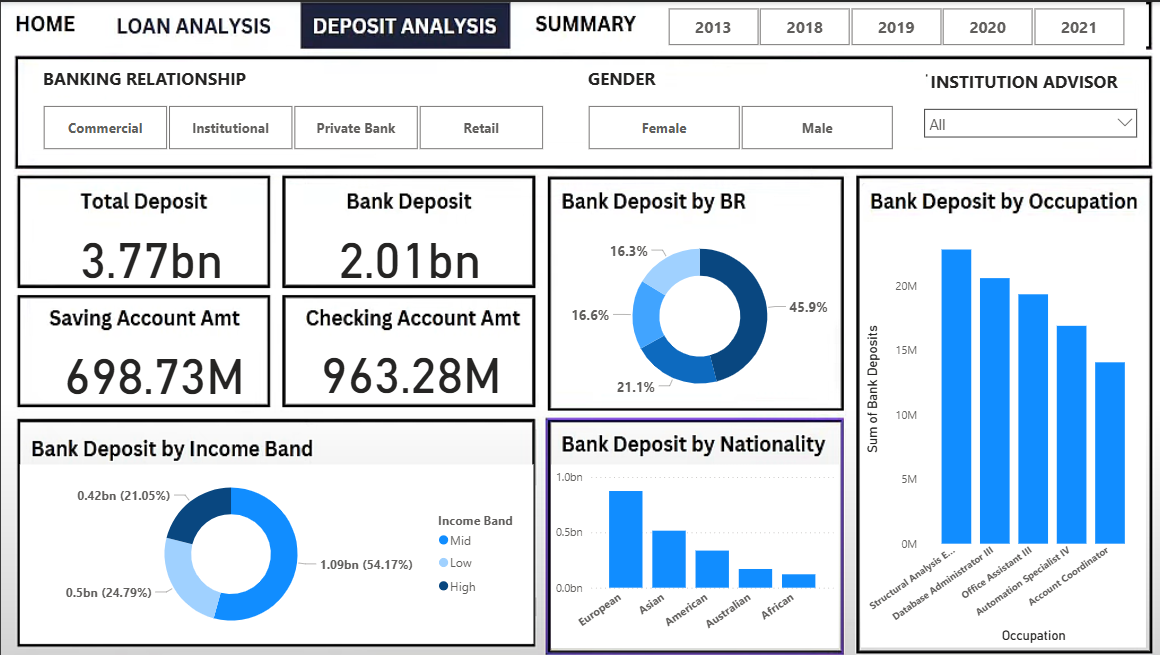

The dashboard page shown, as its layout file describes it:
{"tool":"powerbi","page":{"name":"Deposit Analysis","canvas":[1280,720],"ordinal":2},"visuals":[{"type":"actionButton","box":[0,0,101.4,54.3],"z":0},{"type":"slicer","fields":{"Values":["banking_case customer.Year of Joining"]},"box":[707.1,0,550,54.3],"z":1000},{"type":"card","fields":{"Values":["banking_case customer.Total Deposits"]},"box":[75.7,241.4,180,71.4],"z":2000},{"type":"card","fields":{"Values":["Sum(banking_case customer.Bank Deposits)"]},"box":[362.9,241.4,172.9,71.4],"z":3000},{"type":"card","fields":{"Values":["Sum(banking_case customer.Saving Accounts)"]},"box":[61.4,367.1,212.9,72.9],"z":4000},{"type":"card","fields":{"Values":["Sum(banking_case customer.Checking Accounts)"]},"box":[344.3,360,211.4,88.6],"z":5000},{"type":"donutChart","fields":{"Category":["banking_case customer.Income Band"],"Y":["Sum(banking_case customer.Bank Deposits)"]},"box":[20,507.1,564.3,197.1],"z":6000},{"type":"donutChart","fields":{"Category":["banking_case customer.BRId"],"Y":["Sum(banking_case customer.Bank Deposits)"]},"box":[604.3,241.4,327.1,207.1],"z":7000},{"type":"clusteredColumnChart","fields":{"Category":["banking_case customer.Nationality"],"Y":["Sum(banking_case customer.Bank Deposits)"]},"box":[604.3,507.1,315.7,201.4],"z":8000},{"type":"clusteredColumnChart","fields":{"Category":["banking_case customer.Occupation"],"Y":["Sum(banking_case customer.Bank Deposits)"]},"box":[944.3,241.4,312.9,467.1],"z":9000},{"type":"slicer","fields":{"Values":["banking_case customer.BRId"]},"box":[20,107.1,598.6,61.4],"z":10000},{"type":"slicer","fields":{"Values":["banking_case customer.GenderId"]},"box":[618.6,107.1,384.3,61.4],"z":11000},{"type":"slicer","fields":{"Values":["banking_case customer.IAId"]},"box":[1002.9,107.1,254.3,64.3],"z":12000},{"type":"textbox","box":[41.4,65.7,292.9,37.1],"z":13000},{"type":"textbox","box":[640,65.7,114.3,37.1],"z":14000},{"type":"textbox","box":[1015.7,70,224.3,37.1],"z":15000},{"type":"textbox","box":[478.6,65.7,161.4,37.1],"z":16000},{"type":"textbox","box":[842.9,65.7,172.9,37.1],"z":17000},{"type":"actionButton","box":[572.9,0,134.3,54.3],"z":18000},{"type":"actionButton","box":[117.1,0,185.7,54.3],"z":19000}]}

Visuals, with their boxes in screenshot pixels (x1, y1, x2, y2), scaled from the page's 1280x720 canvas onto the 1160x655 screenshot:
actionButton: crop(0, 0, 92, 49)
slicer - banking_case customer.Year of Joining: crop(641, 0, 1139, 49)
card - banking_case customer.Total Deposits: crop(69, 220, 232, 285)
card - Sum(banking_case customer.Bank Deposits): crop(329, 220, 486, 285)
card - Sum(banking_case customer.Saving Accounts): crop(56, 334, 249, 400)
card - Sum(banking_case customer.Checking Accounts): crop(312, 328, 504, 408)
donutChart - banking_case customer.Income Band x Sum(banking_case customer.Bank Deposits): crop(18, 461, 530, 641)
donutChart - banking_case customer.BRId x Sum(banking_case customer.Bank Deposits): crop(548, 220, 844, 408)
clusteredColumnChart - banking_case customer.Nationality x Sum(banking_case customer.Bank Deposits): crop(548, 461, 834, 645)
clusteredColumnChart - banking_case customer.Occupation x Sum(banking_case customer.Bank Deposits): crop(856, 220, 1139, 645)
slicer - banking_case customer.BRId: crop(18, 97, 561, 153)
slicer - banking_case customer.GenderId: crop(561, 97, 909, 153)
slicer - banking_case customer.IAId: crop(909, 97, 1139, 156)
textbox: crop(38, 60, 303, 94)
textbox: crop(580, 60, 684, 94)
textbox: crop(920, 64, 1124, 97)
textbox: crop(434, 60, 580, 94)
textbox: crop(764, 60, 921, 94)
actionButton: crop(519, 0, 641, 49)
actionButton: crop(106, 0, 274, 49)
